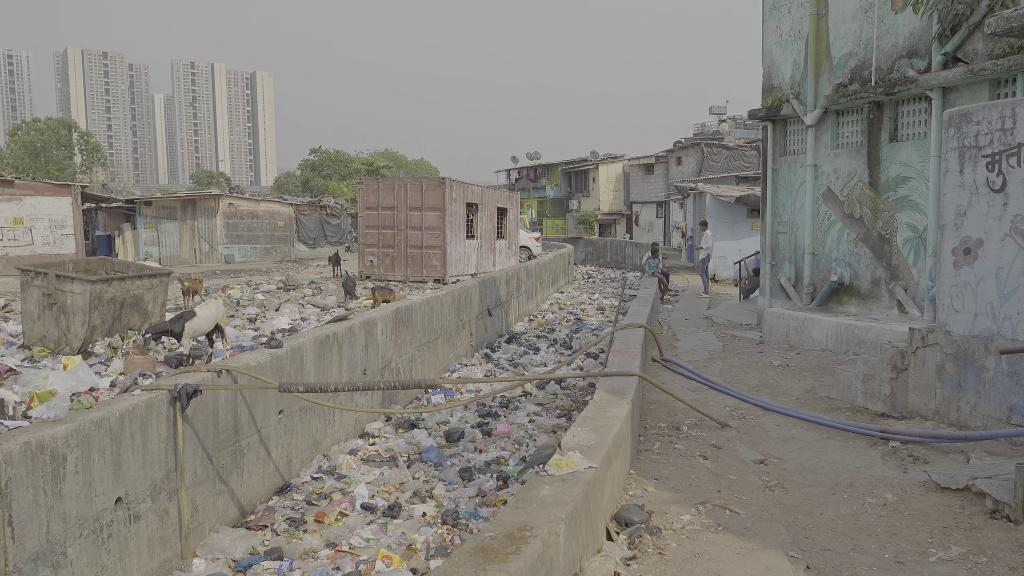dustbin: (13, 255, 170, 352)
garbage: (14, 360, 103, 396), (611, 501, 667, 542), (369, 548, 407, 576), (418, 444, 450, 467), (382, 463, 412, 487), (296, 532, 326, 551), (323, 525, 349, 544), (380, 501, 404, 520), (442, 426, 467, 444), (439, 508, 460, 528), (263, 544, 285, 562), (262, 334, 285, 351), (457, 465, 476, 484), (277, 555, 296, 572), (358, 501, 377, 516), (519, 402, 542, 414), (440, 492, 457, 508), (410, 434, 429, 446), (335, 540, 352, 553), (439, 541, 457, 553), (458, 496, 469, 508)
